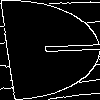L: (24, 25, 100, 56)
